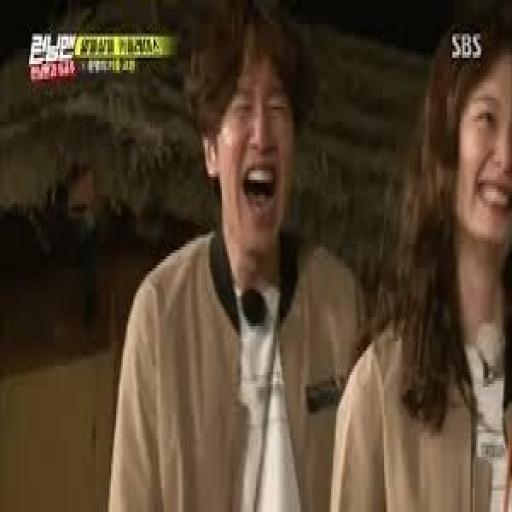laughing: (106, 12, 372, 506)
